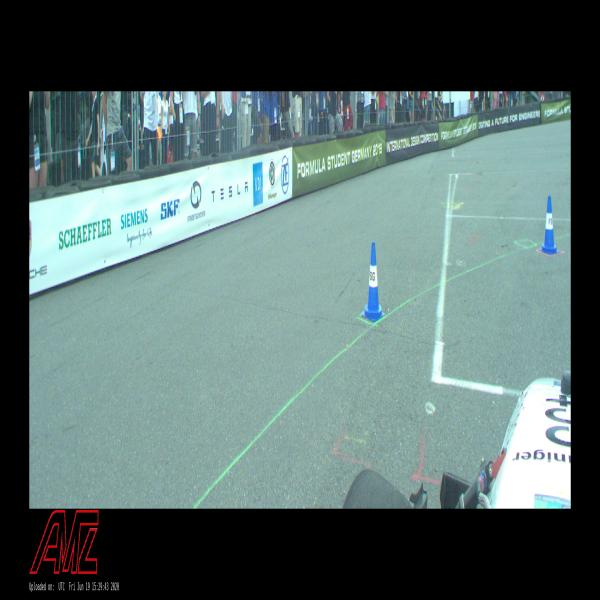blue_cone: (361, 242, 385, 322), (539, 196, 559, 255)
